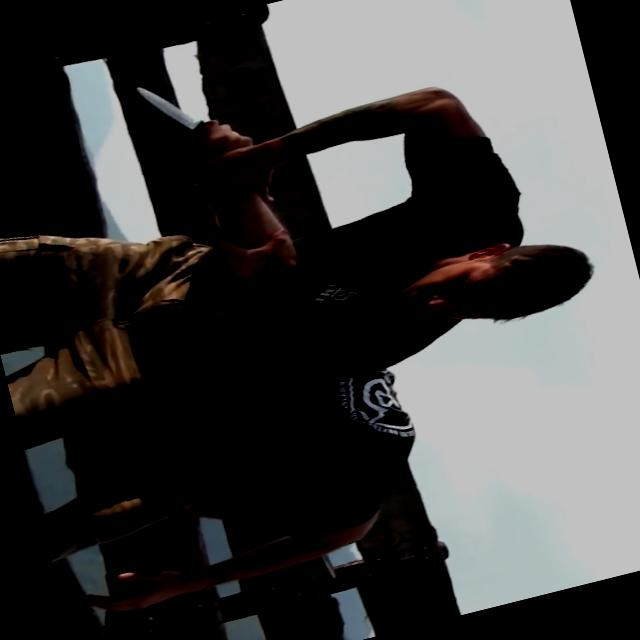knife: (125, 54, 257, 170)
